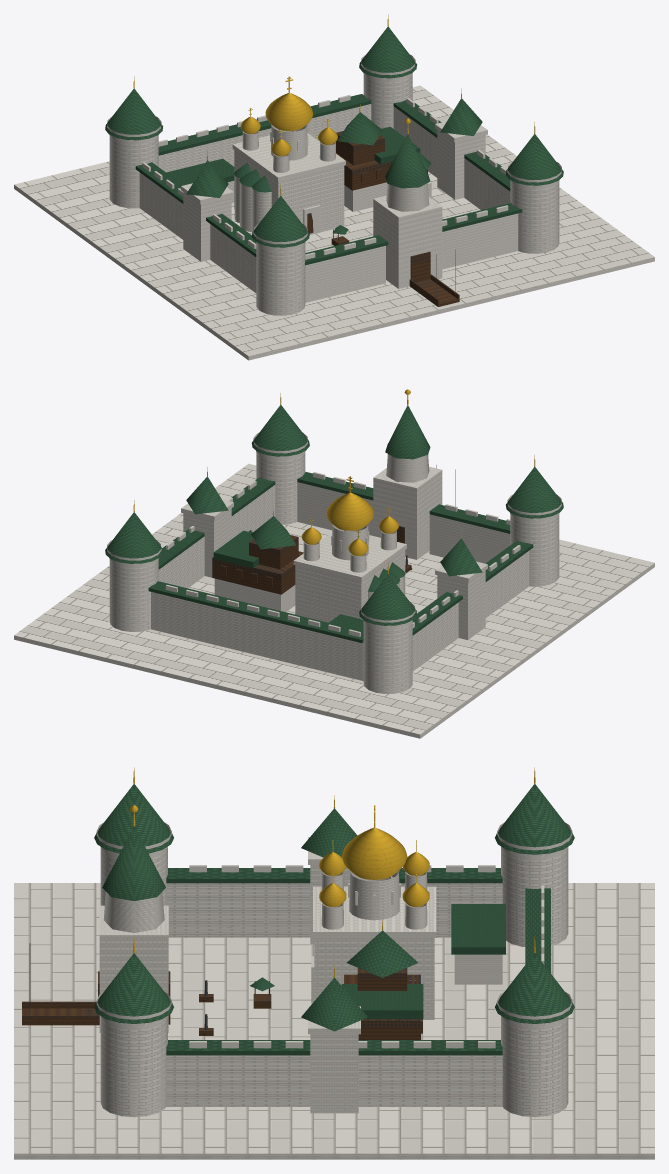
Rendered from rus_qalasi.glb.
3 views of the same model, one above another, from view 1: azimuth 30°, elevation 25°; view 2: azimuth 150°, elevation 25°; view 3: azimuth 270°, elevation 25° (orthographic). The views are drawn at different scales.
Parts seen in each view (by area): view 1: Medieval_Russian_Fortress; view 2: Medieval_Russian_Fortress; view 3: Medieval_Russian_Fortress.
Boxes of the visible parts, bbox=[...] form: Medieval_Russian_Fortress: bbox=[14, 14, 654, 360]; Medieval_Russian_Fortress: bbox=[14, 389, 654, 738]; Medieval_Russian_Fortress: bbox=[14, 767, 654, 1159].
Size of the model in its own units: 80 by 30.2 by 80.
1 material, 1 textured.
